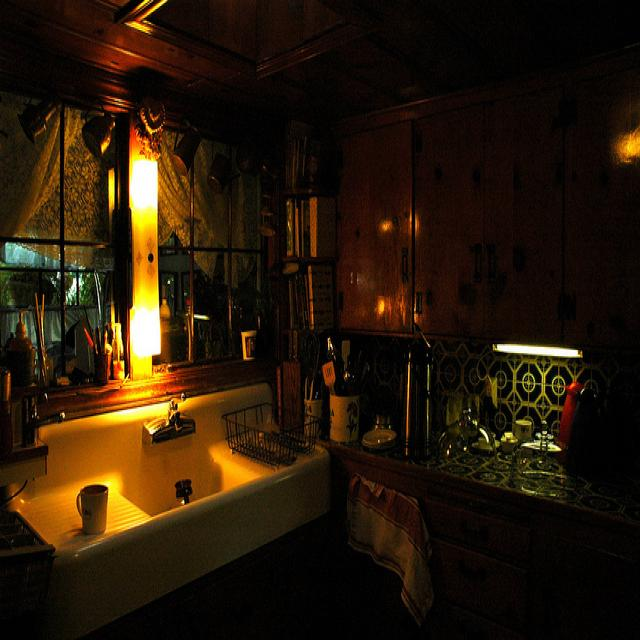Bottle: (403, 297, 442, 461), (333, 335, 363, 458)
Cup: (70, 462, 113, 539), (235, 313, 265, 365)
